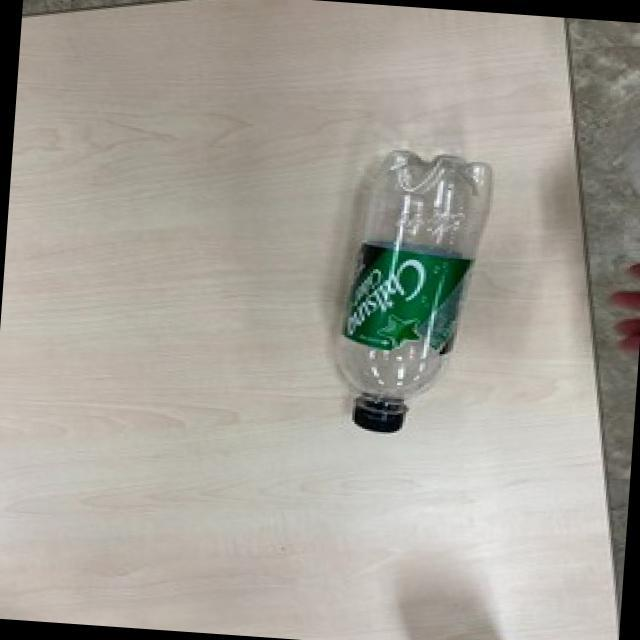good: (324, 134, 496, 442)
